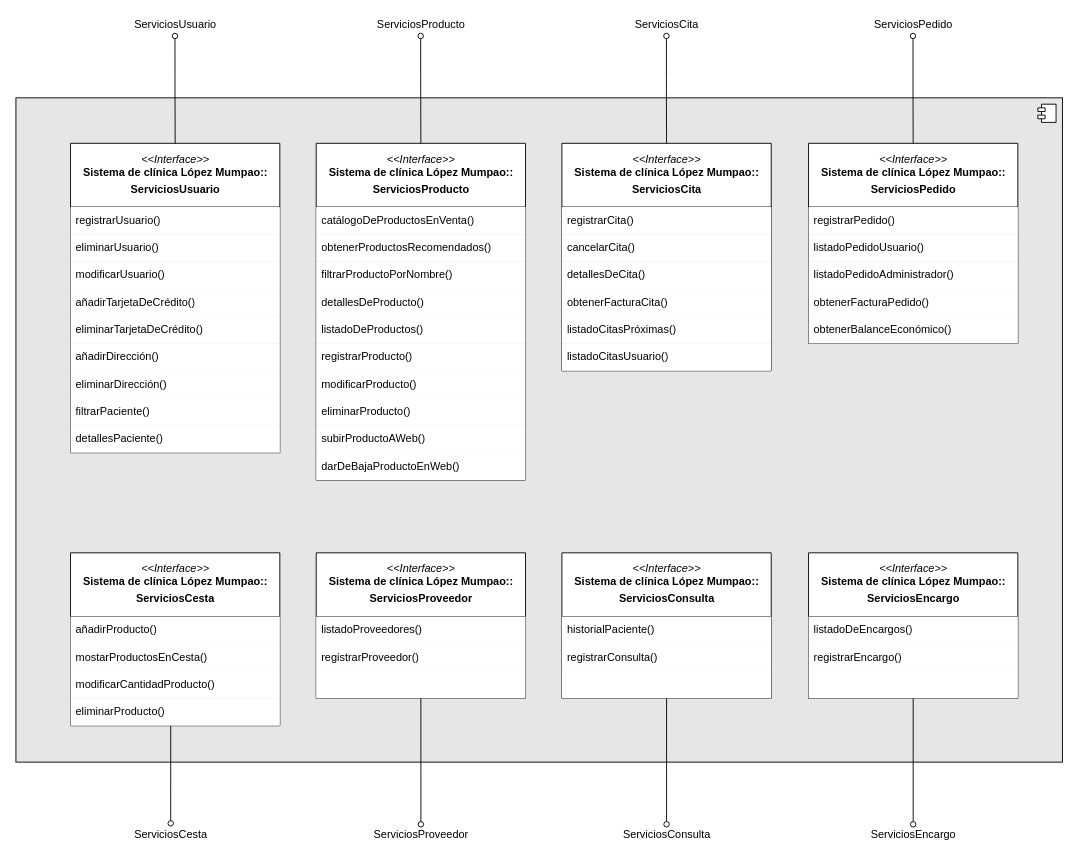
Some shapes in this 1078 by 859 pixel diagram are drawn without their labels. Each missing label, with the centre of its shape:
modificarProveedor(): point (420, 684)
obtenerFacturaEncargo(): point (912, 684)
obtenerInforme(): point (666, 684)
